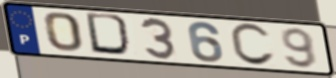0: (42, 11, 87, 54)
3: (139, 16, 177, 61)
6: (186, 19, 225, 64)
9: (279, 26, 319, 70)
C: (228, 22, 278, 68)
D: (83, 12, 137, 59)
